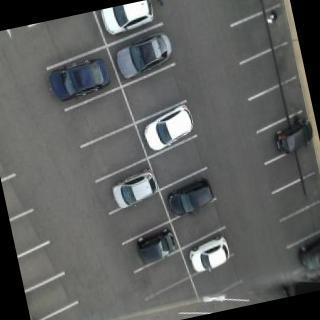car: (44, 55, 115, 105), (111, 31, 178, 83), (140, 102, 200, 154), (101, 1, 161, 45), (108, 167, 161, 212), (167, 178, 219, 218), (187, 234, 233, 274), (135, 228, 180, 267), (274, 120, 317, 157), (298, 236, 320, 273)
parking-space: (62, 84, 140, 151), (31, 10, 111, 70), (119, 61, 192, 125), (79, 121, 151, 180), (239, 39, 303, 103), (228, 3, 295, 63), (105, 190, 175, 246), (145, 135, 213, 192), (247, 75, 309, 136), (167, 196, 231, 251), (132, 249, 194, 303), (264, 169, 320, 223), (262, 146, 320, 197), (189, 254, 244, 304), (277, 200, 320, 252), (225, 1, 288, 31)
